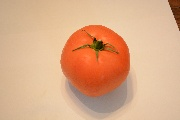tomato: (60, 24, 131, 97)
